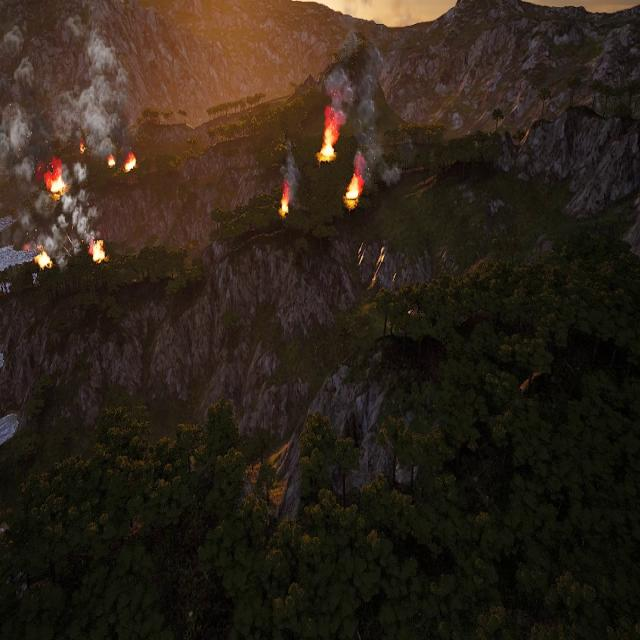fire: (318, 109, 340, 161), (345, 173, 362, 205), (45, 170, 65, 194), (91, 240, 106, 262), (36, 252, 51, 268), (280, 193, 290, 216), (125, 156, 137, 173), (78, 142, 85, 153), (108, 157, 115, 168)
smoke: (324, 60, 399, 190), (19, 159, 98, 263), (67, 16, 118, 160), (0, 19, 32, 187), (281, 138, 299, 202)
